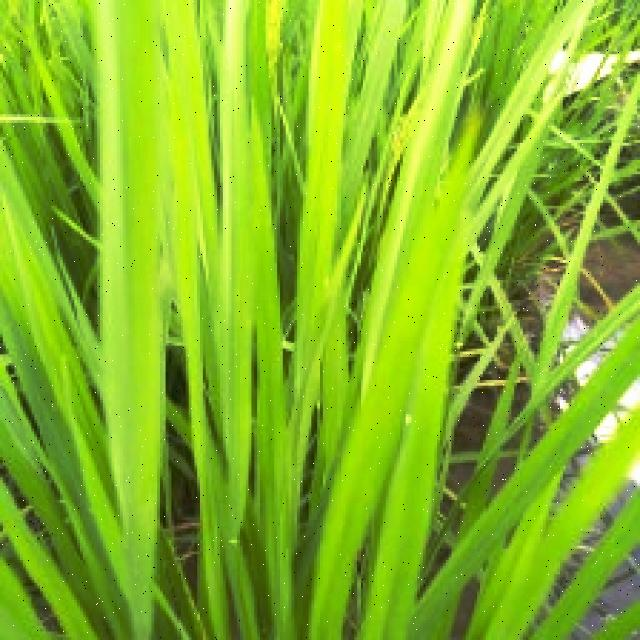health: (95, 0, 438, 640)
